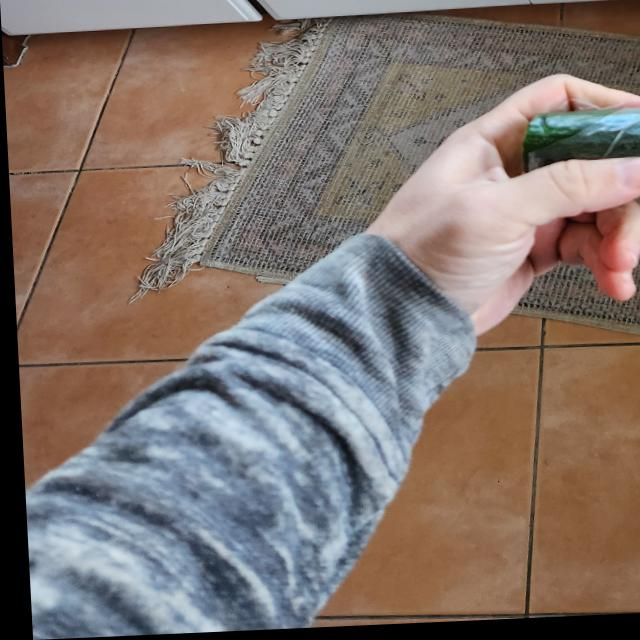cucumber: (527, 112, 640, 215)
